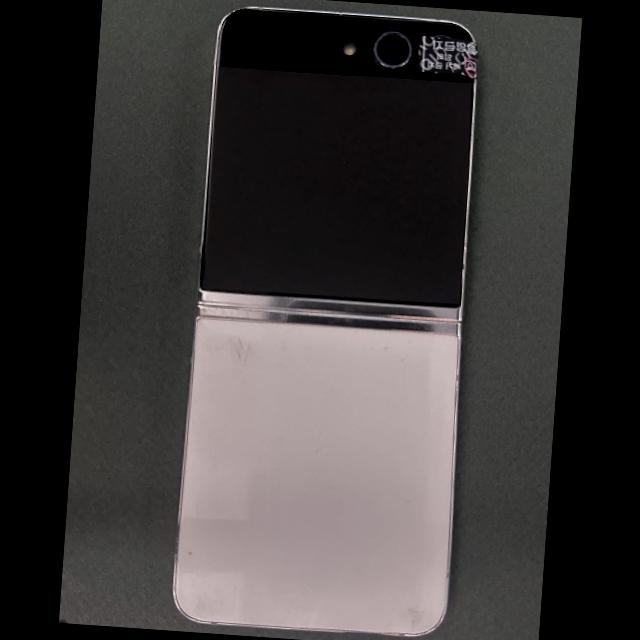lens: (373, 32, 411, 68)
phone: (173, 9, 476, 635)
sticker: (417, 35, 478, 80)
